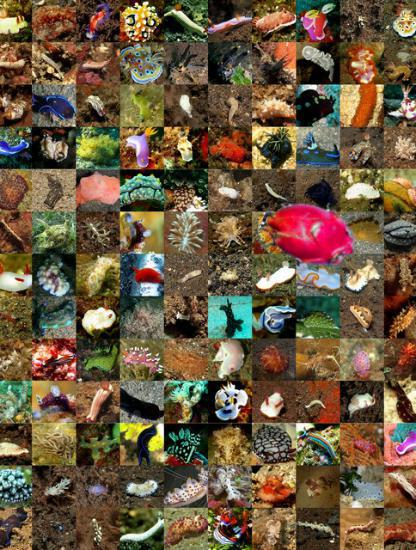Pitahaya: (261, 185, 359, 283)
